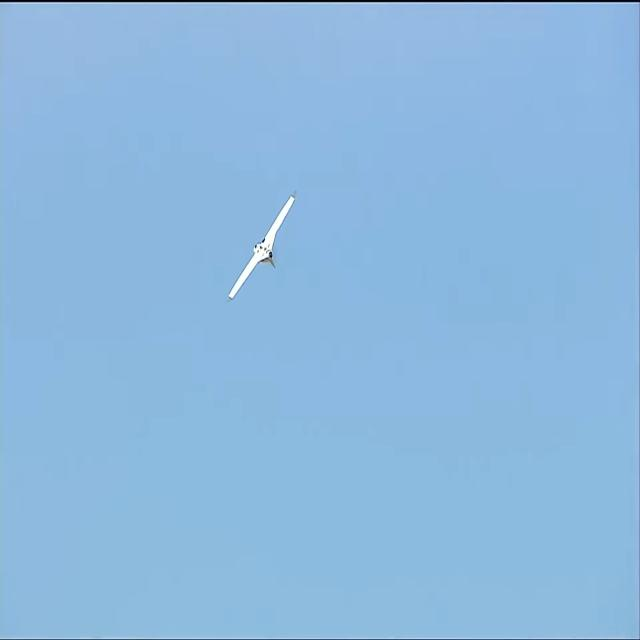iha: (253, 226, 259, 268)
